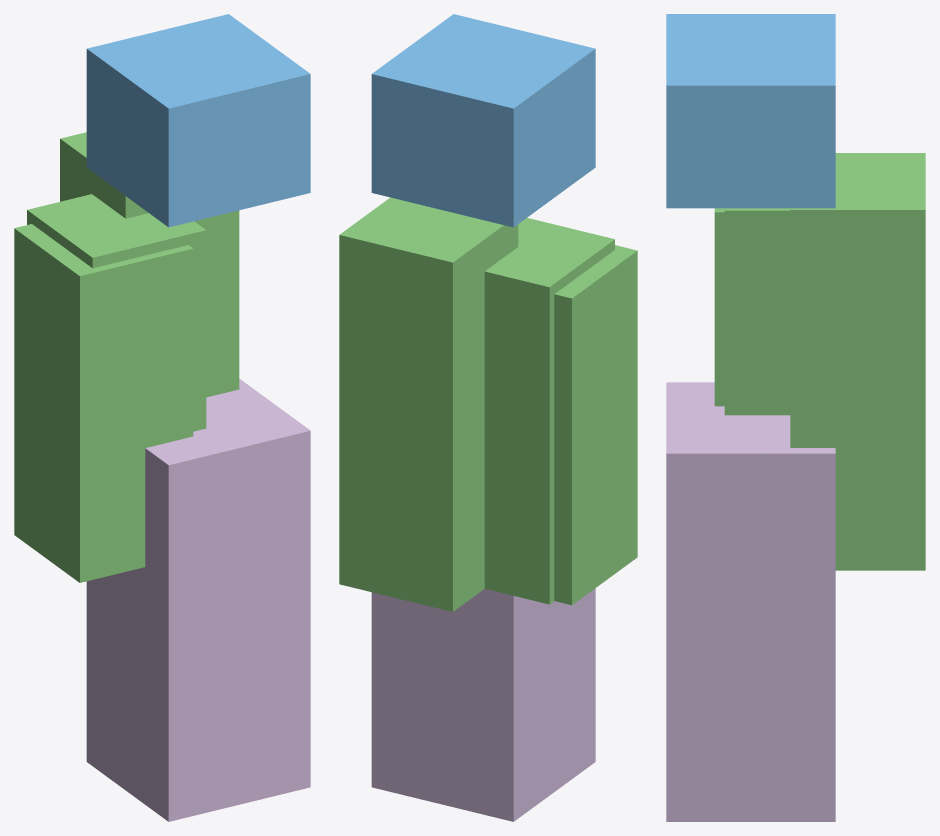
File: Item_Herb_AMF_Dewclaw_Bundle2.glb
The picture shows the model from 3 angles, left to right: view 1: azimuth 30°, elevation 25°; view 2: azimuth 150°, elevation 25°; view 3: azimuth 270°, elevation 25°; orthographic projection. The views are drawn at different scales.
Parts seen in each view (by area): view 1: Item_Herb_AMF_Dewclaw_Bundle2; view 2: Item_Herb_AMF_Dewclaw_Bundle2; view 3: Item_Herb_AMF_Dewclaw_Bundle2.
Boxes of the visible parts, x1,y1,x2,y2 form: Item_Herb_AMF_Dewclaw_Bundle2: (14, 14, 310, 821); Item_Herb_AMF_Dewclaw_Bundle2: (339, 14, 637, 821); Item_Herb_AMF_Dewclaw_Bundle2: (666, 14, 925, 821).
Bounding box in the file's own units: 0.0731 × 0.24 × 0.0766.
